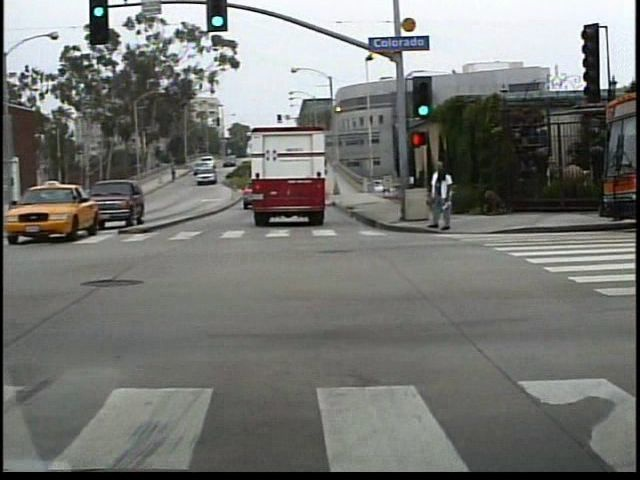person: (431, 158, 458, 234)
